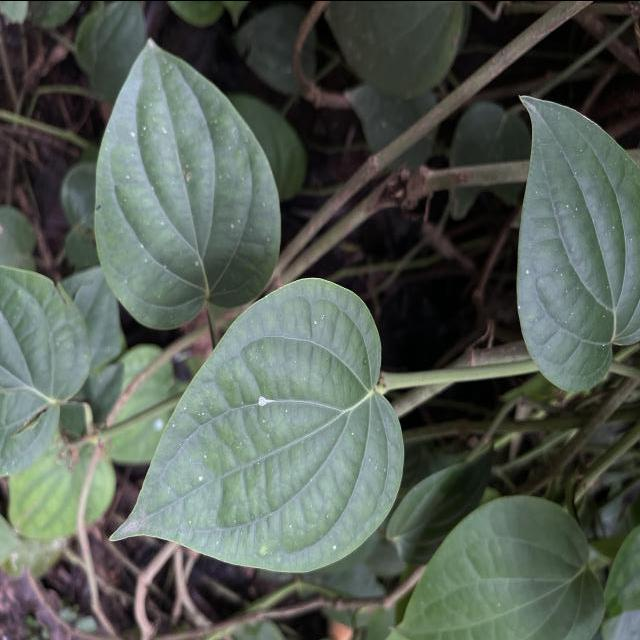Piper nigrum: (106, 275, 407, 574), (92, 31, 284, 332)
